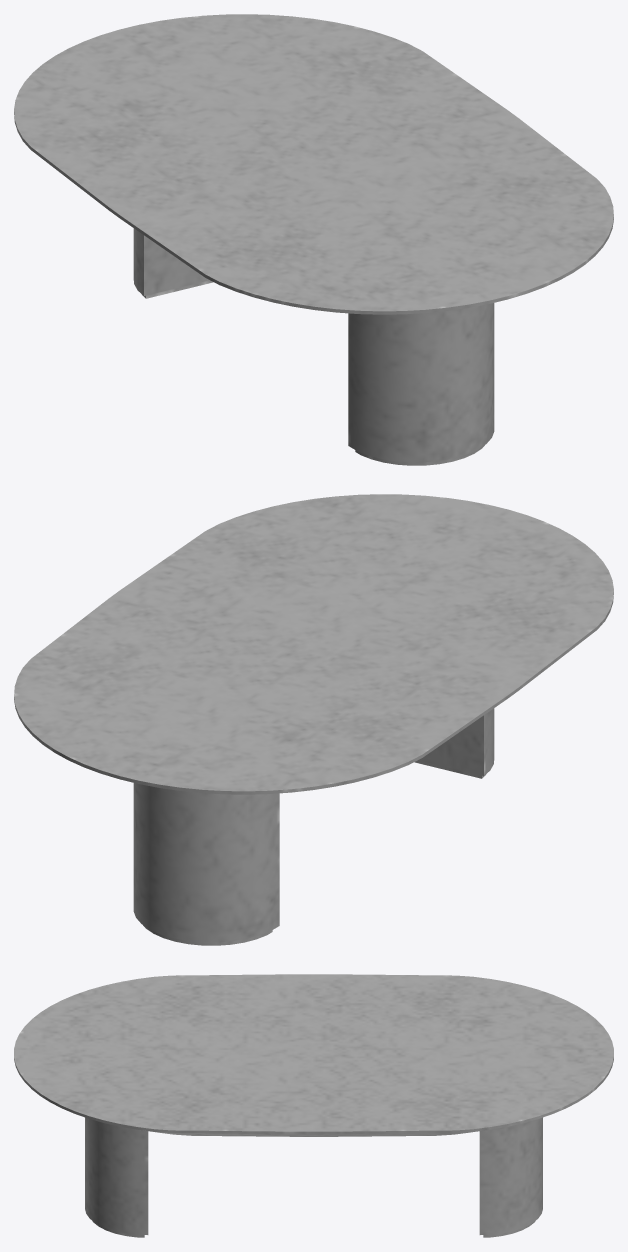
File: table2.fbx
The picture shows the model from 3 angles, top to bottom: view 1: azimuth 30°, elevation 25°; view 2: azimuth 150°, elevation 25°; view 3: azimuth 270°, elevation 25°; orthographic projection. The views are drawn at different scales.
Visible parts, largest first — view 1: table; view 2: table; view 3: table.
Part boxes in pixels (x1,y1,x2,y2): table: [14, 14, 613, 465]; table: [14, 494, 613, 945]; table: [14, 974, 613, 1237].
Size of the model in its own units: 1.61 by 0.7626 by 2.6.
Materials: 1 (1 with a texture image).
